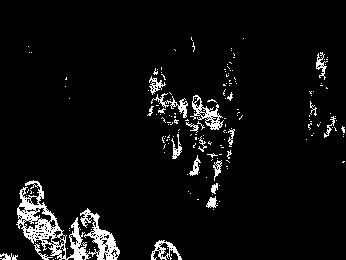person: (194, 99, 234, 211), (14, 178, 65, 260), (149, 91, 184, 160)
